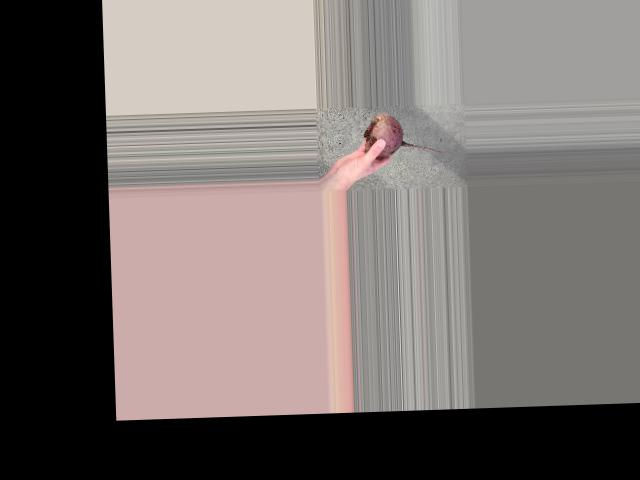beet: (363, 111, 442, 156)
